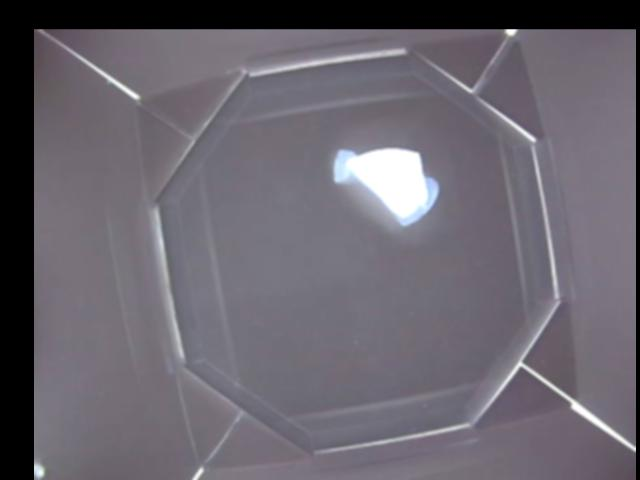China: (335, 140, 442, 225)
